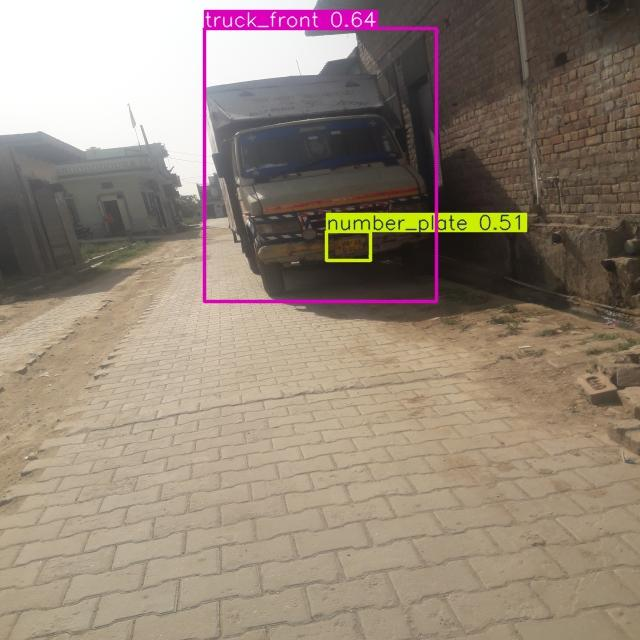truck_front: (202, 68, 454, 302)
